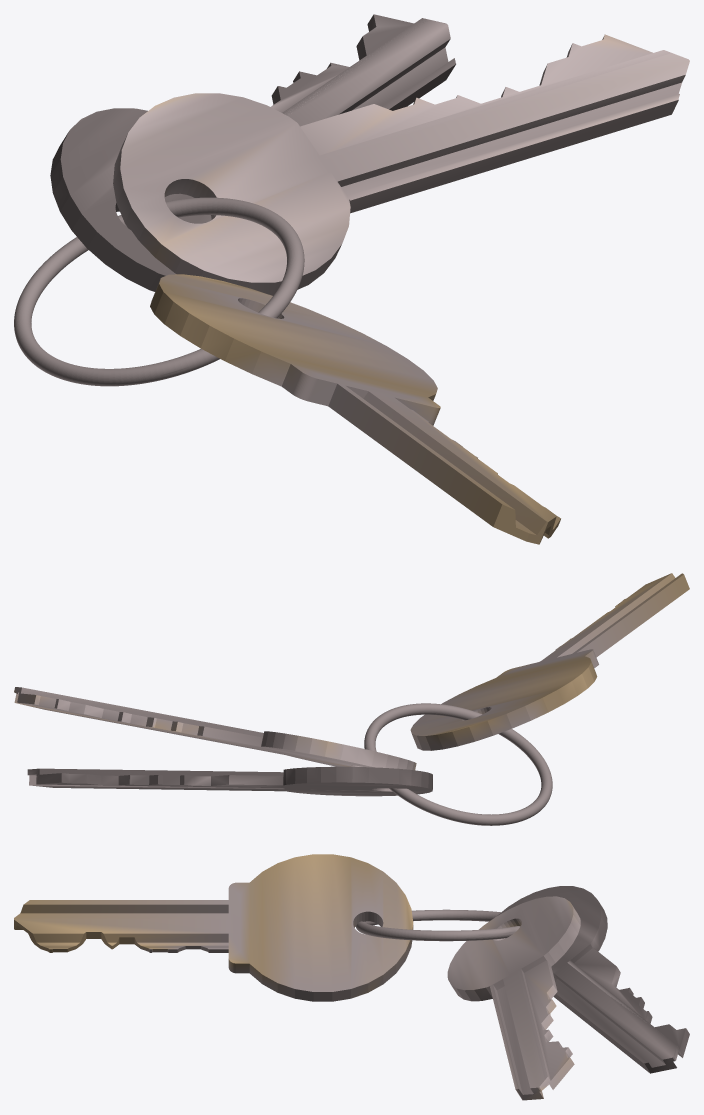
The model's file is keys1.glb.
3 views of the same model, one above another, from view 1: azimuth 30°, elevation 25°; view 2: azimuth 150°, elevation 25°; view 3: azimuth 270°, elevation 25° (orthographic). The views are drawn at different scales.
Visible parts, largest first — view 1: Keys.001, Keys, Keys.002, Torus.002; view 2: Keys, Keys.002, Keys.001, Torus.002; view 3: Keys, Keys.001, Keys.002, Torus.002.
Boxes of the visible parts, <box> form: Keys.001: <box>113,34,689,295</box>; Keys: <box>150,274,560,544</box>; Keys.002: <box>50,14,455,291</box>; Torus.002: <box>14,197,304,386</box>; Keys: <box>410,573,689,750</box>; Keys.002: <box>27,766,432,796</box>; Keys.001: <box>14,687,416,770</box>; Torus.002: <box>364,703,552,825</box>; Keys: <box>14,854,413,1001</box>; Keys.001: <box>447,896,580,1100</box>; Keys.002: <box>496,886,689,1073</box>; Torus.002: <box>355,909,520,941</box>.
Bounding box in the file's own units: 67.55 × 12.72 × 89.69.
